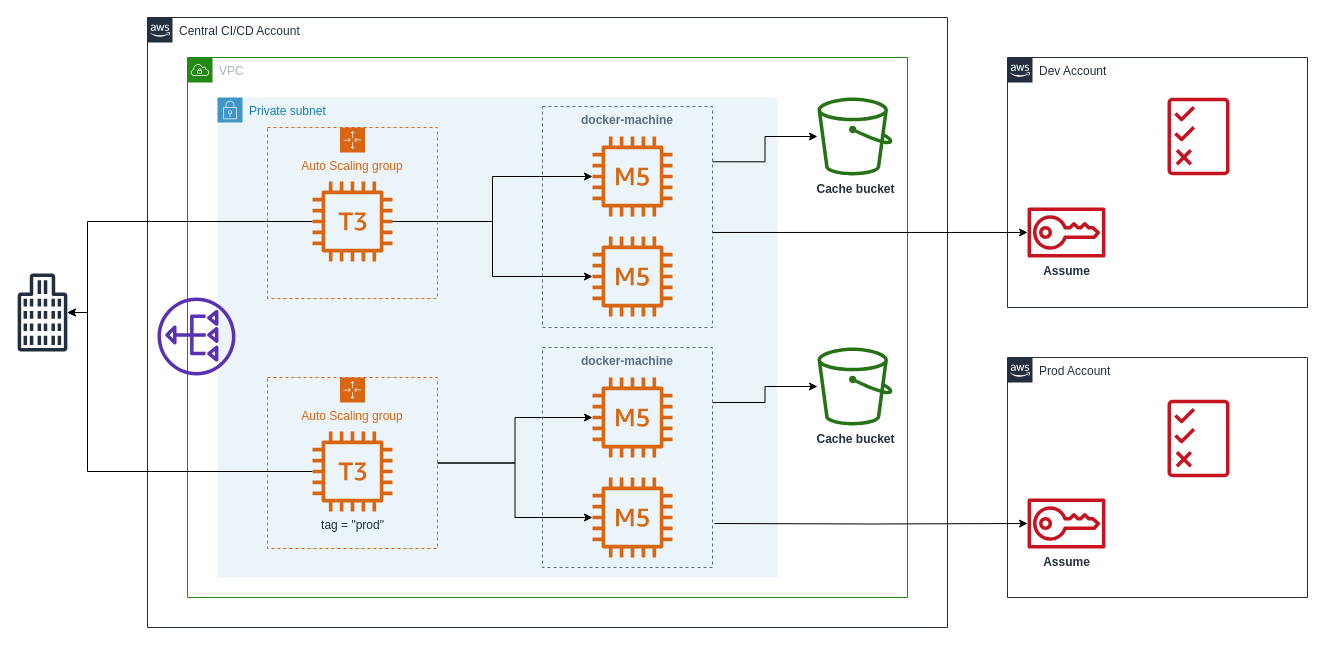
Image size: 1325x645. Some labels were removed from this diagram. The shapes that lost their labels are listed below. From the top down, each one's centre as x and y in pixels, then its label:
(x=1198, y=136): dev IAM role
(x=352, y=221): tag = "dev"
(x=42, y=312): Gitlab
(x=1198, y=438): prod IAM role
